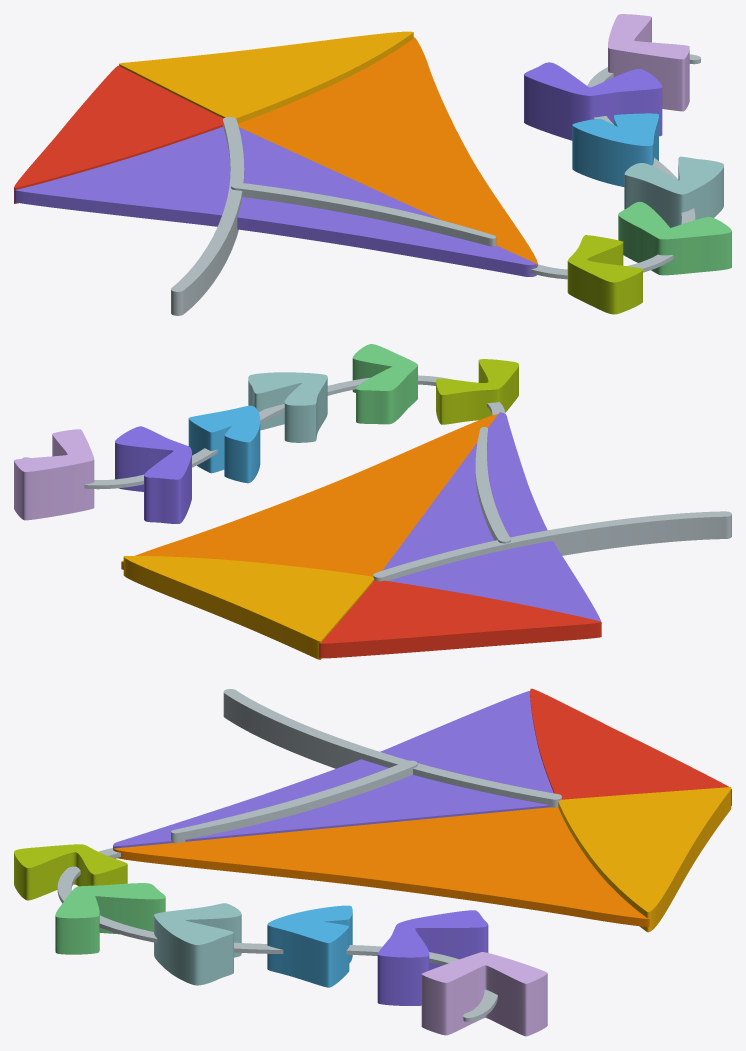
Rendered from emoji_u1fa81.glb.
3 renders of one model, top to bottom at view 1: azimuth 30°, elevation 25°; view 2: azimuth 150°, elevation 25°; view 3: azimuth 270°, elevation 25°, orthographic. The views are drawn at different scales.
Parts seen in each view (by area): view 1: emoji_u1fa81; view 2: emoji_u1fa81; view 3: emoji_u1fa81.
Boxes of the visible parts, x1,y1,x2,y2 form: emoji_u1fa81: [14, 14, 731, 315]; emoji_u1fa81: [14, 344, 731, 659]; emoji_u1fa81: [14, 688, 731, 1036].
Size of the model in its own units: 0.0343 by 0.0026 by 0.0322.
